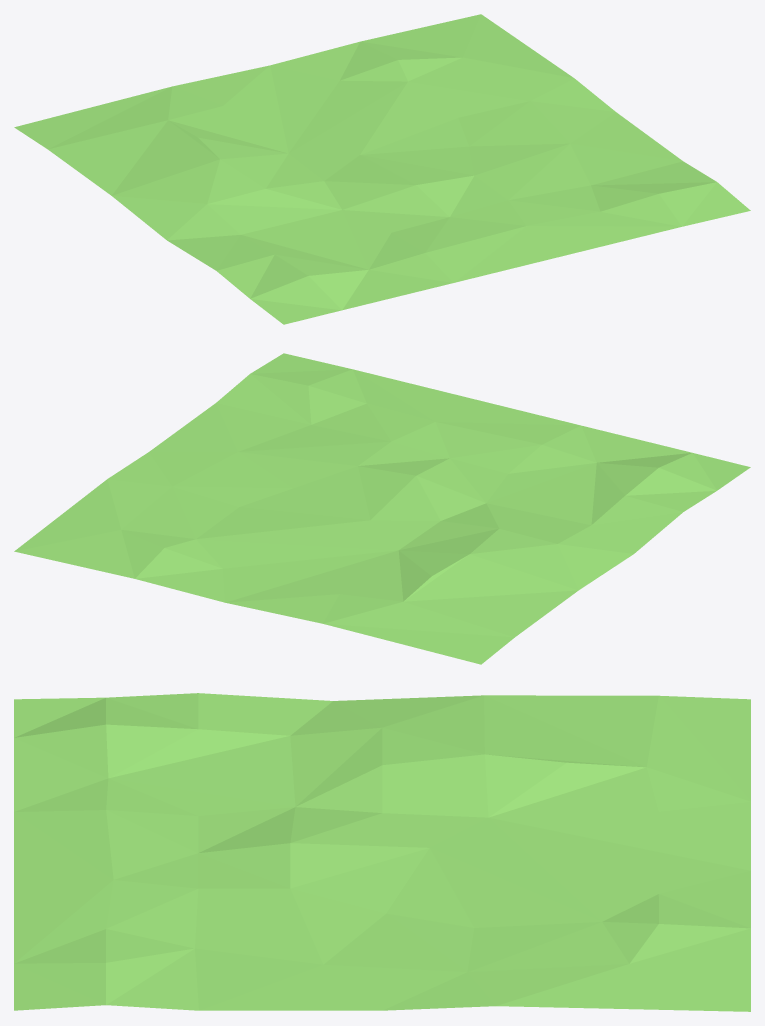
The model's file is grashmesh.fbx.
3 renders of one model, top to bottom at view 1: azimuth 30°, elevation 25°; view 2: azimuth 150°, elevation 25°; view 3: azimuth 270°, elevation 25°, orthographic. The views are drawn at different scales.
Visible parts, largest first — view 1: Plane; view 2: Plane; view 3: Plane.
Part boxes in pixels (x1,y1,x2,y2): Plane: (14,14,750,324); Plane: (14,353,750,664); Plane: (14,693,750,1011).
Size of the model in its own units: 1500 by 42.88 by 1500.
